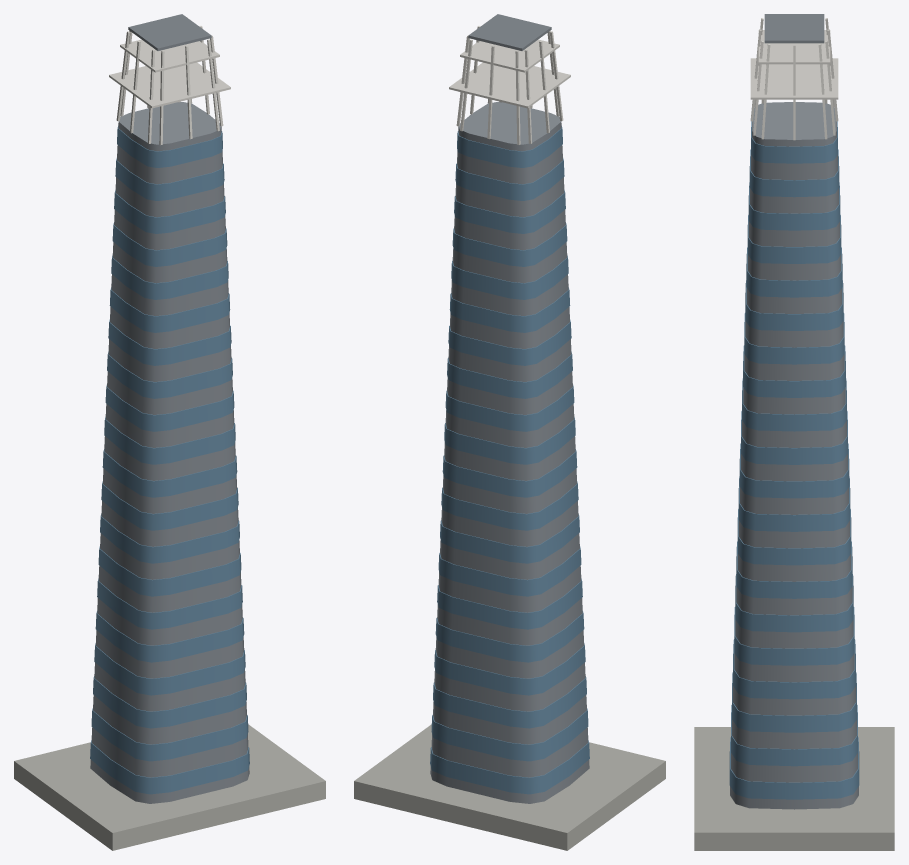
Rendered from mobile.glb.
The picture shows the model from 3 angles, left to right: view 1: azimuth 30°, elevation 25°; view 2: azimuth 150°, elevation 25°; view 3: azimuth 270°, elevation 25°; orthographic projection.
Visible parts, largest first — view 1: lm.crown-tower; view 2: lm.crown-tower; view 3: lm.crown-tower.
Boxes of the visible parts, x1,y1,x2,y2 form: lm.crown-tower: (14,14,325,850); lm.crown-tower: (354,14,665,850); lm.crown-tower: (694,14,894,850).
Bounding box in the file's own units: 100 × 339 × 80.
